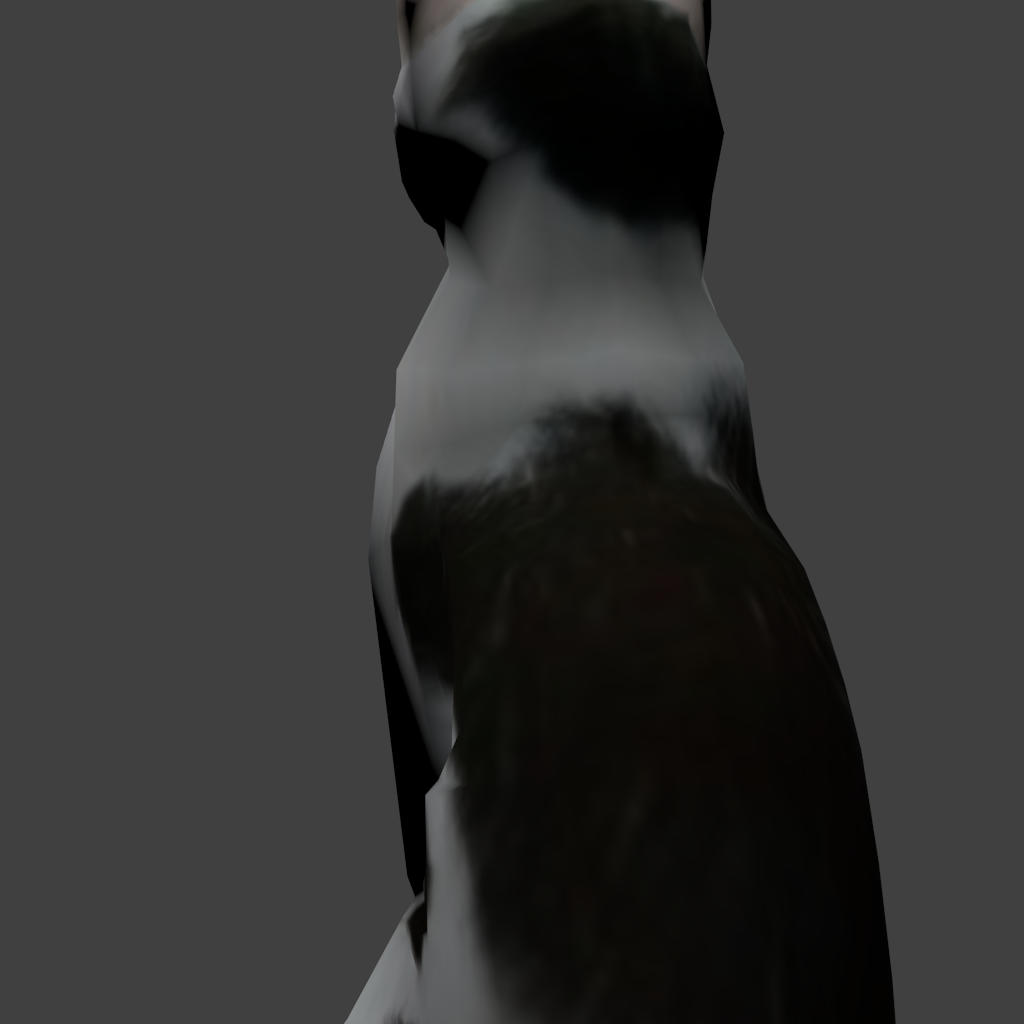Cat: (227, 0, 699, 1024)
